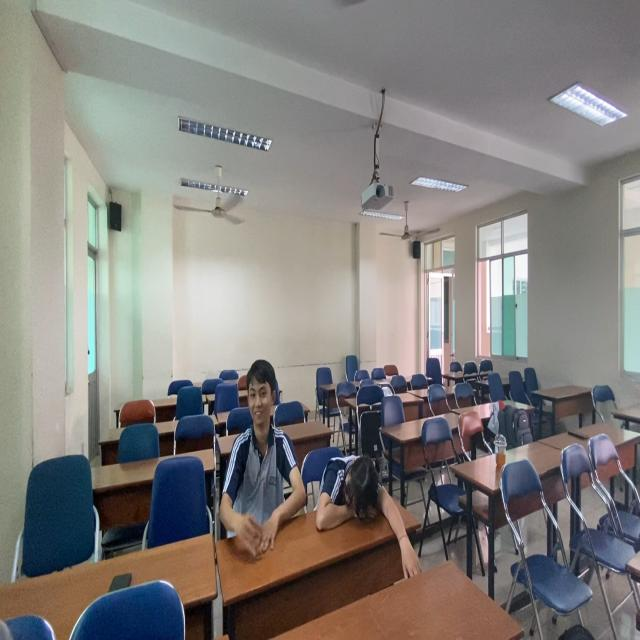sleep: (316, 451, 398, 546)
